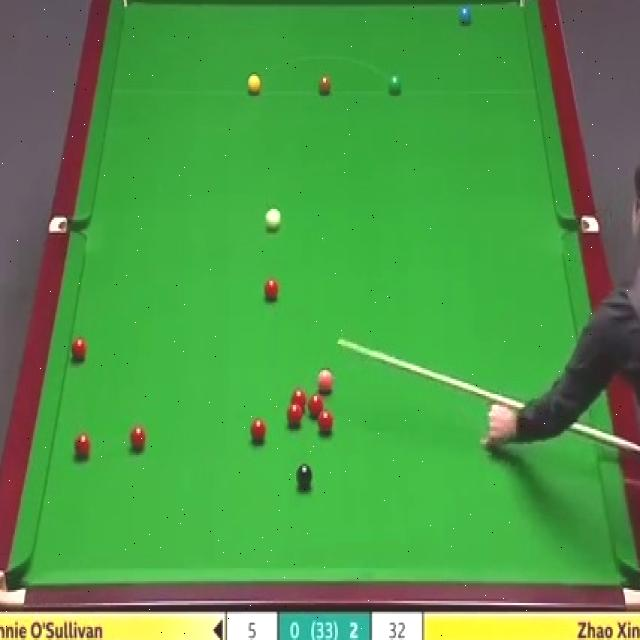black-ball: (296, 465, 312, 489)
blue-ball: (459, 5, 474, 24)
brown-ball: (318, 74, 332, 96)
green-ball: (387, 74, 403, 97)
pink-ball: (316, 367, 334, 394)
red-ball: (73, 433, 93, 460), (250, 417, 267, 446), (70, 335, 88, 362), (128, 423, 145, 451), (317, 408, 334, 433), (310, 390, 327, 414), (263, 278, 279, 303), (291, 388, 307, 412), (287, 404, 303, 426)
white-ball: (265, 207, 283, 231)
yellow-ball: (246, 74, 262, 95)
